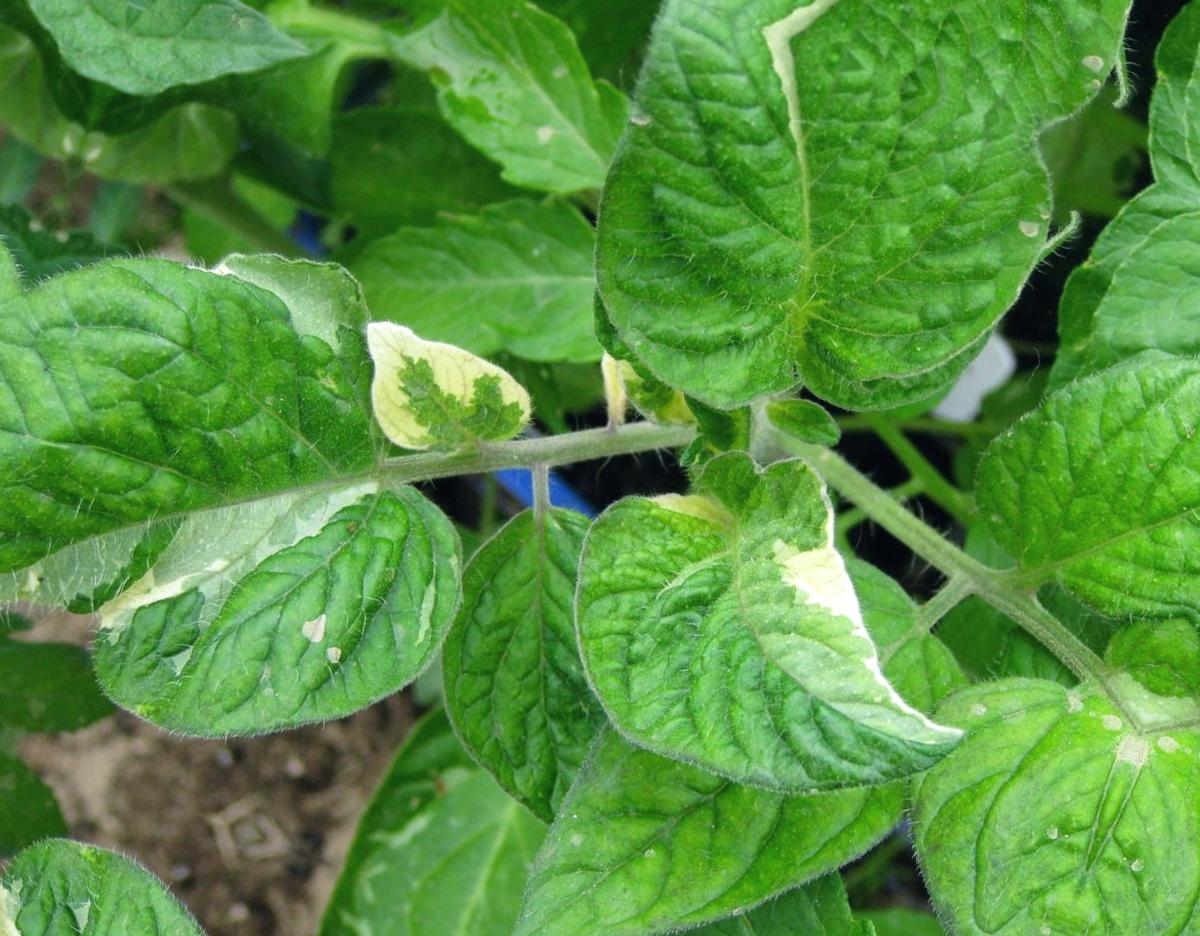Tomato leaf: (521, 0, 1088, 511), (961, 264, 1200, 622), (91, 0, 342, 190)
